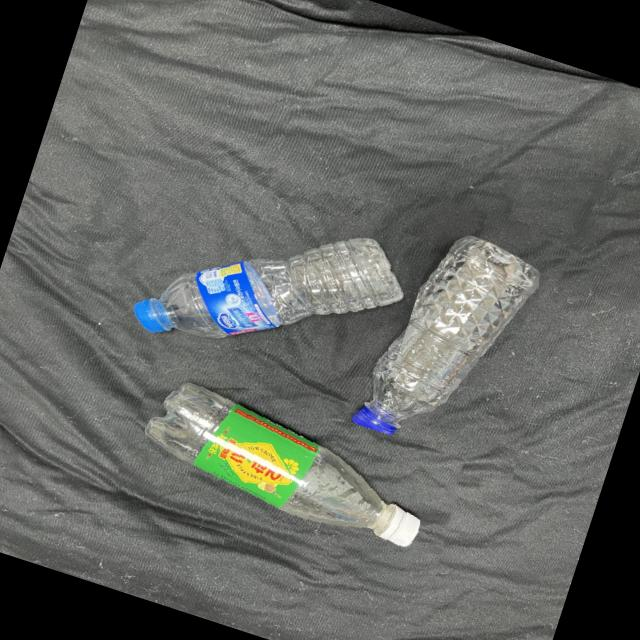plastic bottle: (130, 367, 454, 572), (322, 207, 566, 460), (116, 221, 417, 344)
